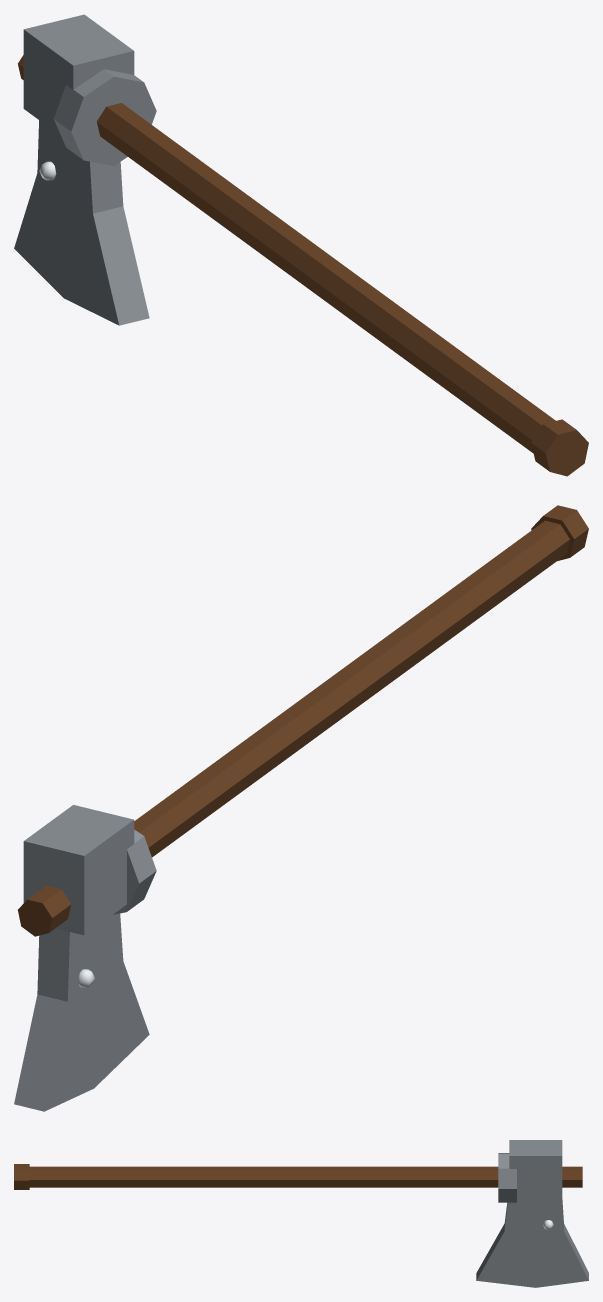
File: Tool_Axe_Iron.fbx
3 renders of one model, top to bottom at view 1: azimuth 30°, elevation 25°; view 2: azimuth 150°, elevation 25°; view 3: azimuth 270°, elevation 25°, orthographic. The views are drawn at different scales.
Parts seen in each view (by area): view 1: Tool_Axe_Iron; view 2: Tool_Axe_Iron; view 3: Tool_Axe_Iron.
Boxes of the visible parts, box(x1,y1,x2,y2) form: Tool_Axe_Iron: box(14, 14, 588, 476); Tool_Axe_Iron: box(14, 505, 588, 1111); Tool_Axe_Iron: box(14, 1140, 588, 1287).
Size of the model in its own units: 0.0338 by 0.096 by 0.368.
